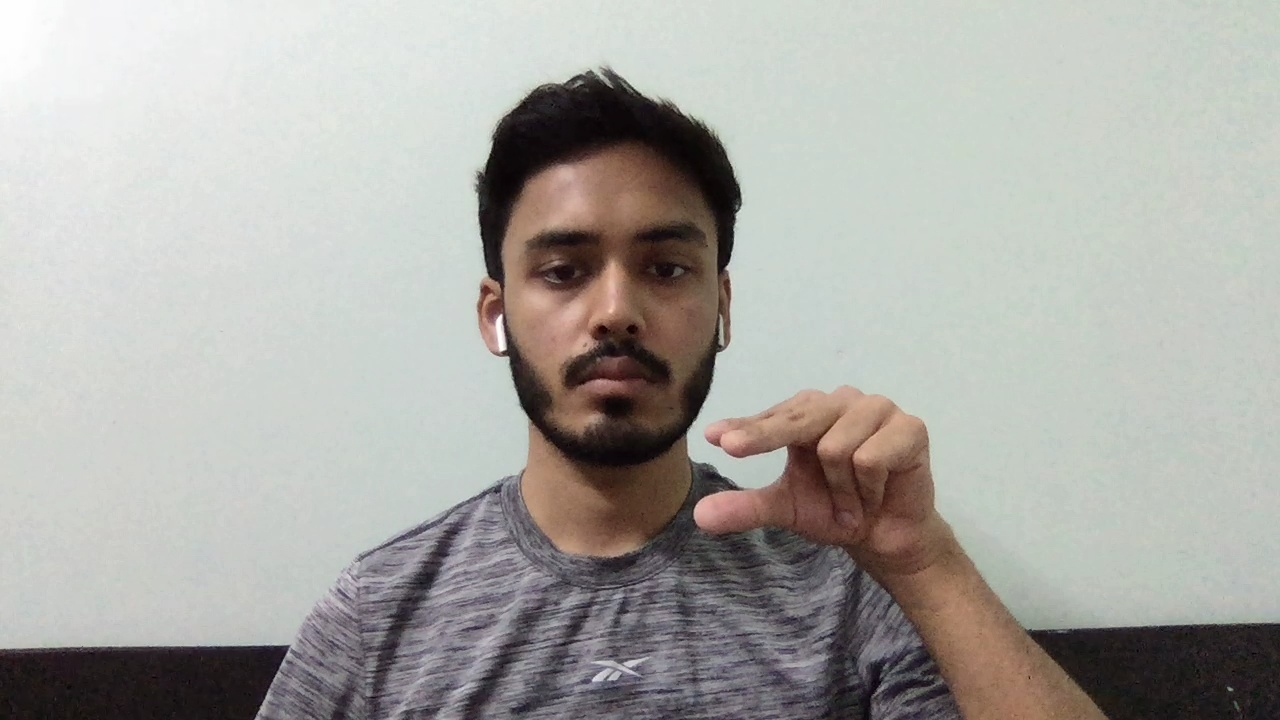No: (684, 375, 974, 556)
